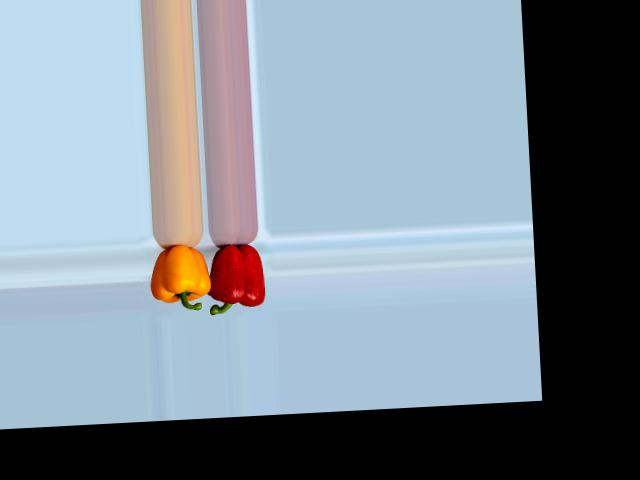bell_pepper: (204, 235, 271, 313)
